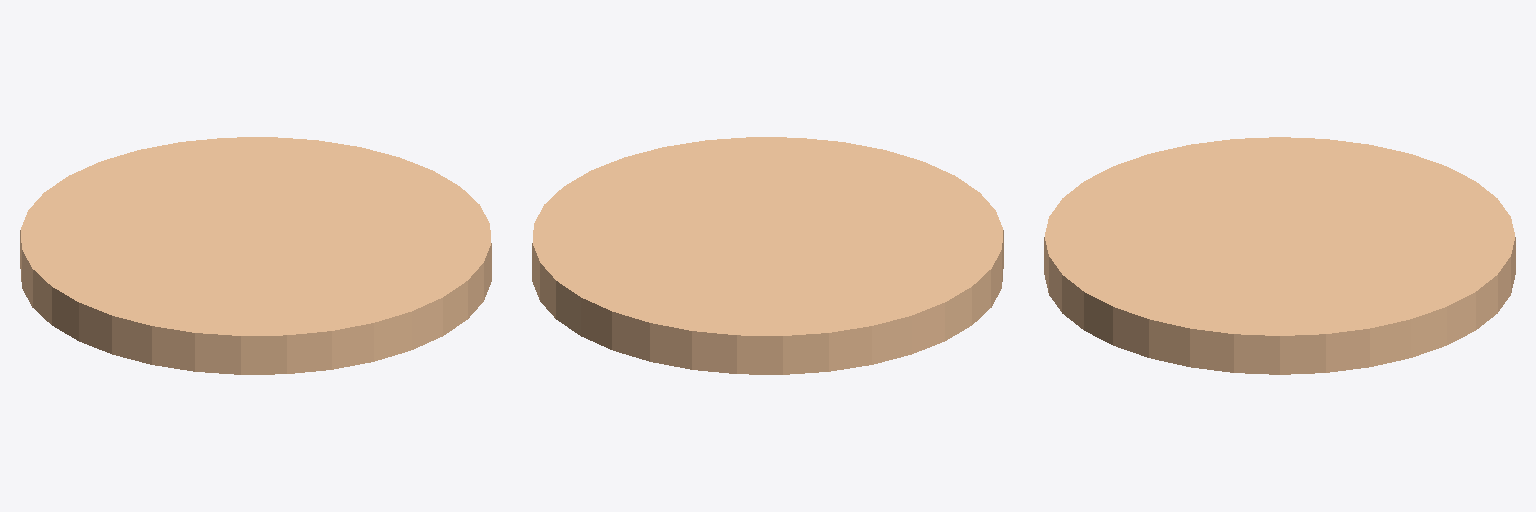
URDF robot description (montessori_object_1):
<?xml version="1.0" ?>
<robot name="montessori_object_1" version="1.0">
  <link name="montessori_object_1">
    <inertial>
      <origin xyz="0.0 0.0 0.0" rpy="0.0 0.0 0.0"/>
      <mass value="0.0060821231454610825"/>
      <inertia ixx="7.44046417366917e-07" ixy="0.0" ixz="0.0" iyy="7.44046417366917e-07" iyz="0.0" izz="1.4718738157171174e-06"/>
    </inertial>
    <visual name="MontessoriObject1">
      <origin xyz="0.0 0.0 0.0" rpy="0.0 0.0 0.0"/>
      <geometry>
        <cylinder radius="0.02199999988079071" length="0.004000000189989805"/>
      </geometry>
      <material name="MontessoriObject1_material">
        <color rgba="1.0 0.83 0.67 1.0"/>
      </material>
    </visual>
  </link>
</robot>

--- Facts derived from the render (not from the file) ---
3 views of the same robot in one strip: view 1: azimuth 30°, elevation 25°; view 2: azimuth 150°, elevation 25°; view 3: azimuth 270°, elevation 25° (orthographic).
Robot: montessori_object_1 — 1 links, 0 joints (none); root link montessori_object_1; default pose: all joints at 0.
Links seen in each view (by area): view 1: montessori_object_1; view 2: montessori_object_1; view 3: montessori_object_1.
Boxes of the visible links, <box> form: montessori_object_1: <box>20,137,491,374</box>; montessori_object_1: <box>532,137,1003,374</box>; montessori_object_1: <box>1044,137,1515,374</box>.
Size in the robot's own frame: 0.044 by 0.044 by 0.004 metres.
Geometry: primitives only (box / cylinder / sphere), no mesh files.